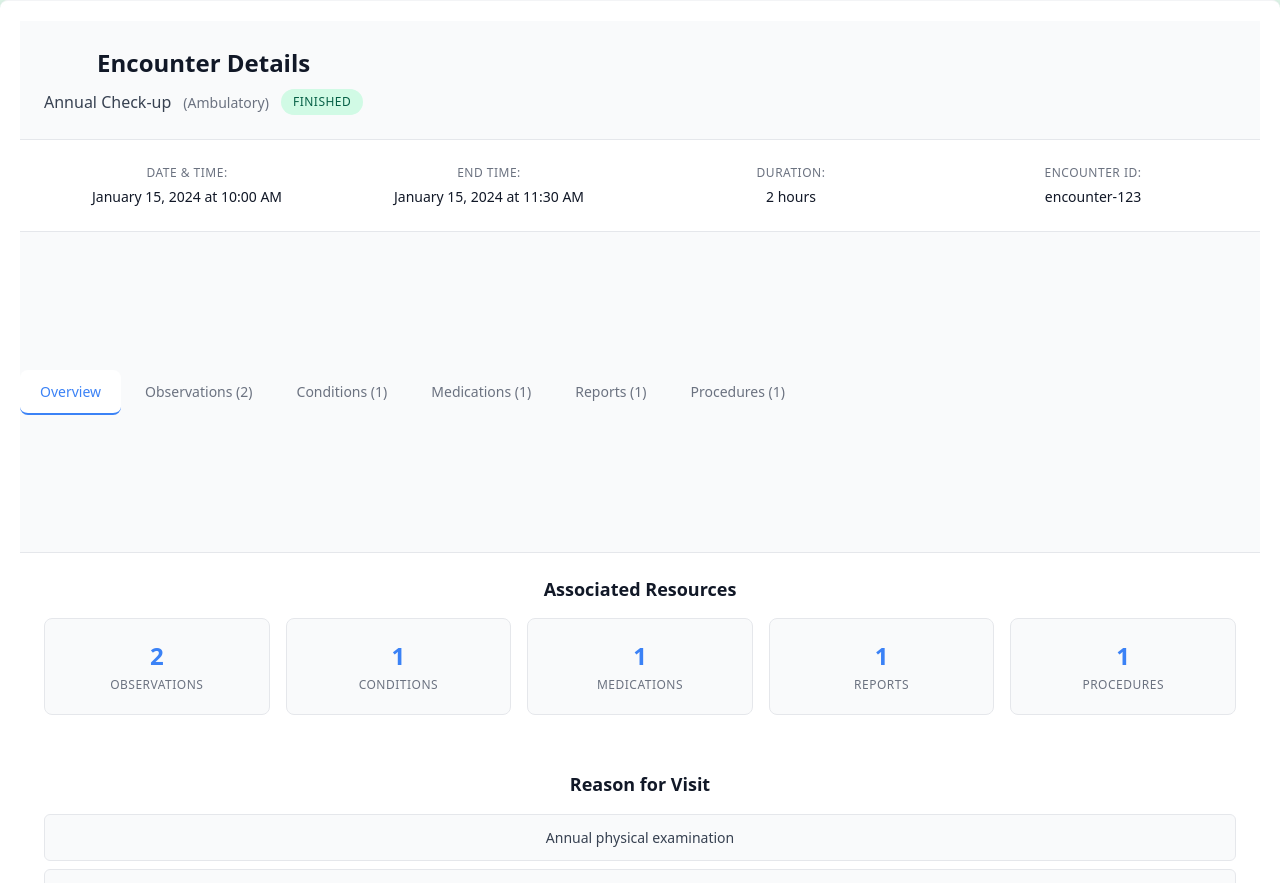
it: EncounterDetails Integration › handles complex medication request with detailed dosage information
Navigate to medications tab
Click the button "Medications (1)": (481, 392) [411, 370, 551, 414]
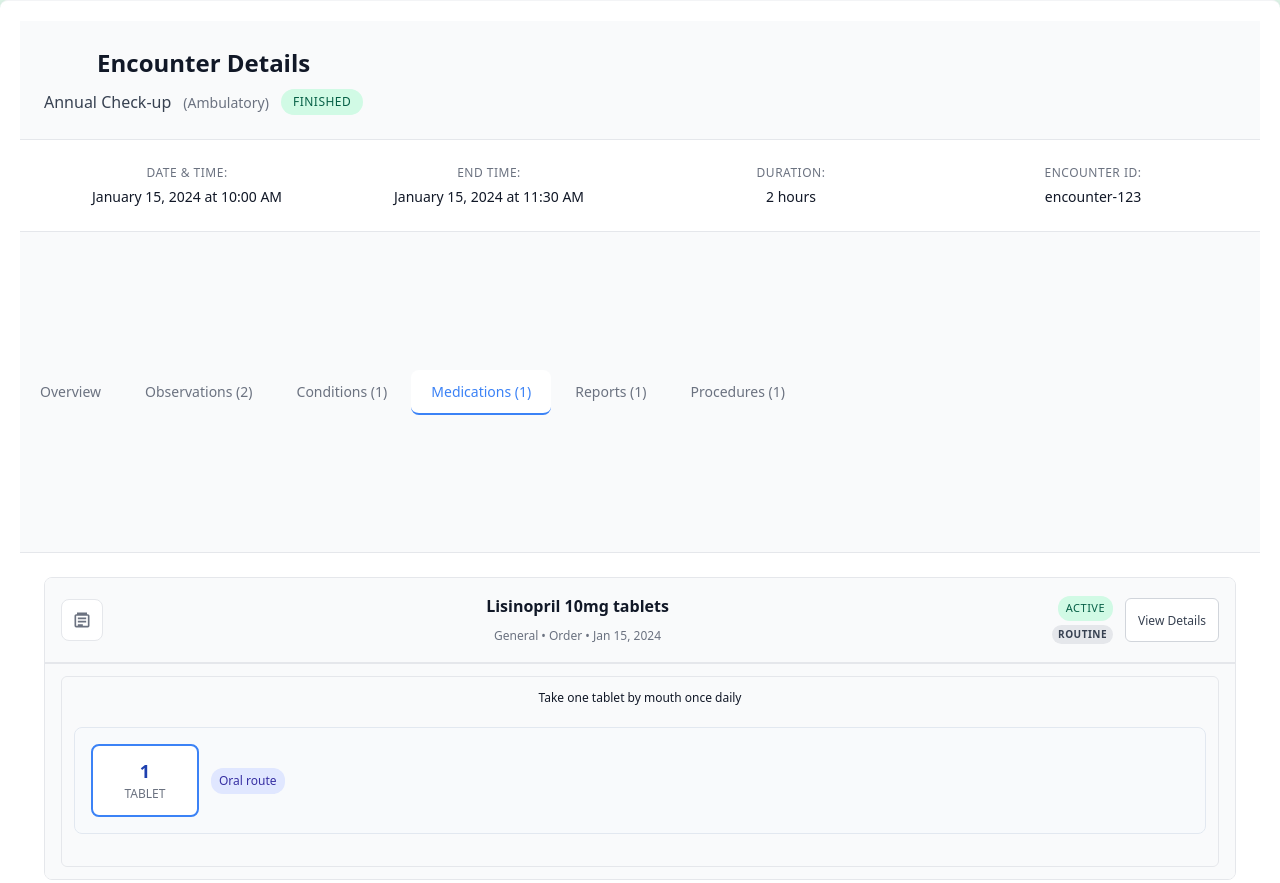
Now the heading "Lisinopril 10mg tablets" is shown, box [486, 595, 669, 617]
Open detailed view
Click the button "View Details": (1172, 620) [1125, 598, 1219, 642]
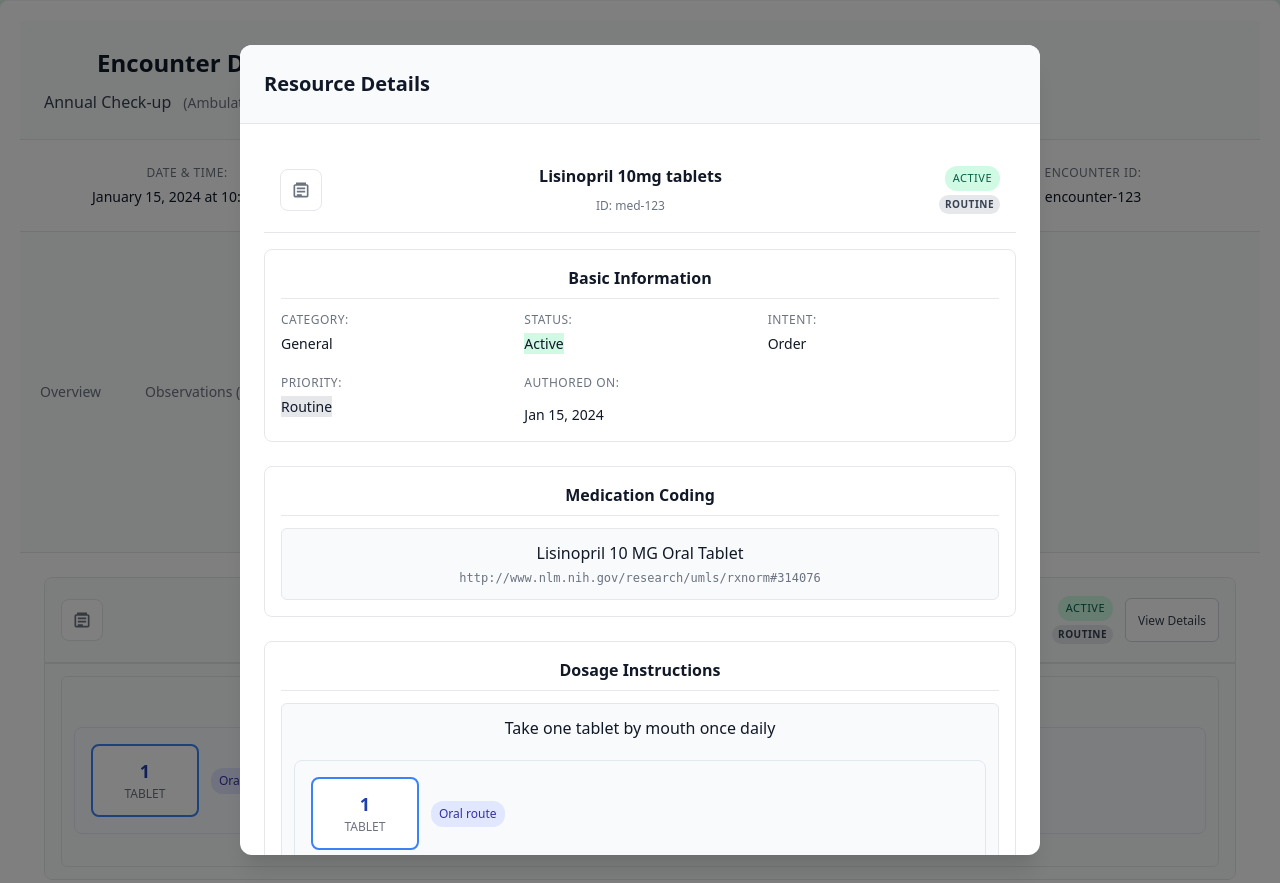
Now the heading "Resource Details" is shown, box [264, 69, 430, 99]
Now the heading "Dosage Instructions" is shown, box [281, 658, 999, 691]
Now the text "Take one tablet by mouth once daily" is shown 2 times, box [538, 689, 742, 706]; [505, 717, 775, 739]
